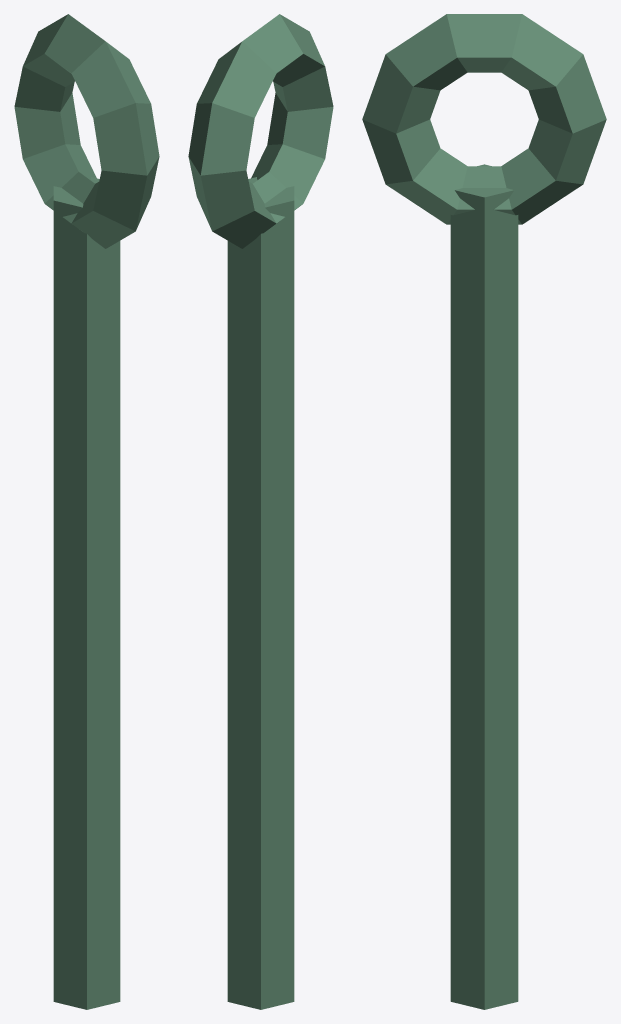
Rendered from rope_post_01.glb.
3 renders of one model, left to right at view 1: azimuth 30°, elevation 25°; view 2: azimuth 150°, elevation 25°; view 3: azimuth 270°, elevation 25°, orthographic.
Parts seen in each view (by area): view 1: Rope_post_01; view 2: Rope_post_01; view 3: Rope_post_01.
Part boxes in pixels (x1,y1,x2,y2): Rope_post_01: (14,14,159,1009); Rope_post_01: (188,14,333,1009); Rope_post_01: (362,14,606,1009).
Size of the model in its own units: 0.0577 by 0.7956 by 0.18.
